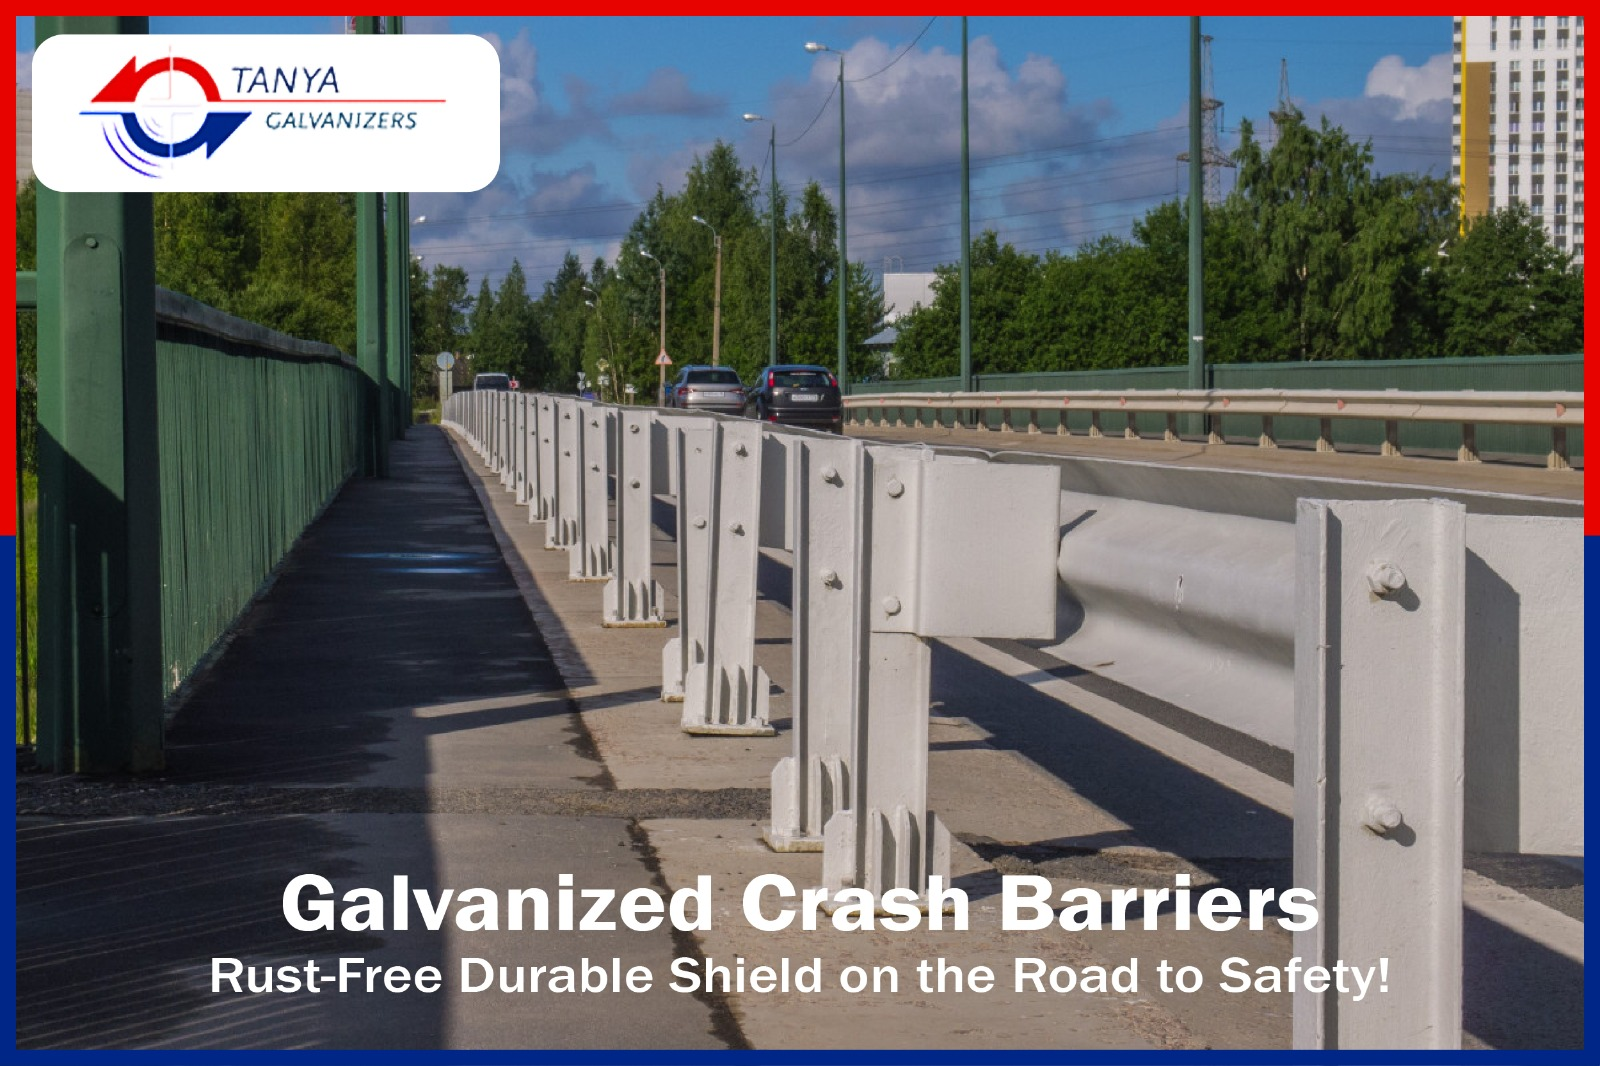not_damaged: (475, 297, 1580, 918)
